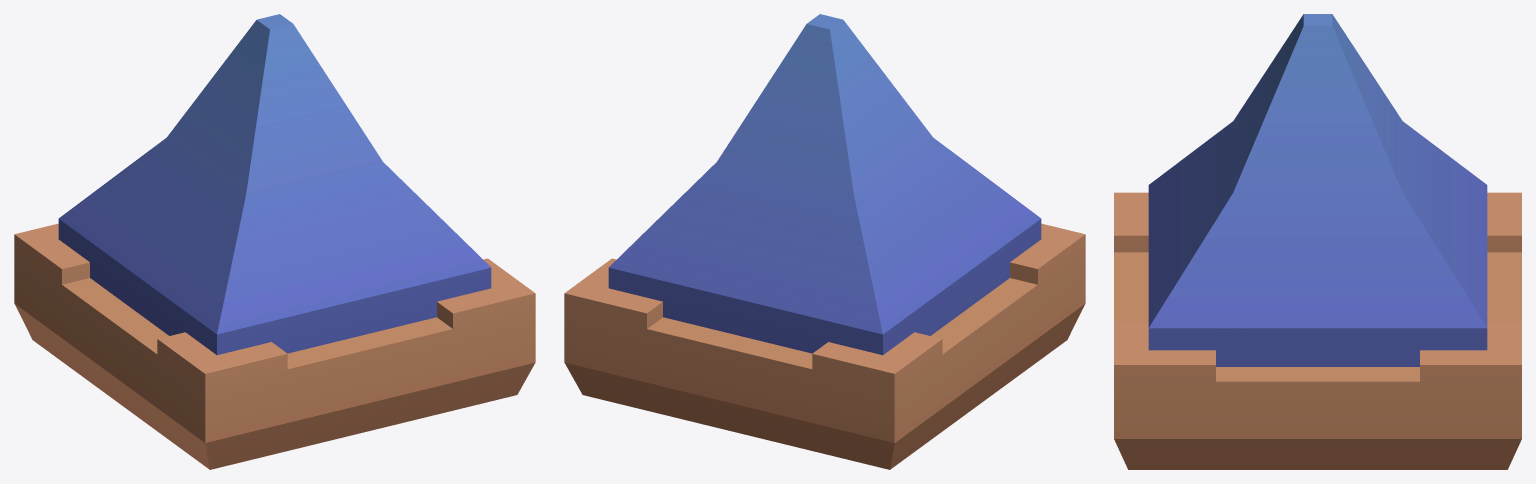
Rendered from kenney-castle-tower-square-top-roof.glb.
The picture shows the model from 3 angles, left to right: view 1: azimuth 30°, elevation 25°; view 2: azimuth 150°, elevation 25°; view 3: azimuth 270°, elevation 25°; orthographic projection. The views are drawn at different scales.
Visible parts, largest first — view 1: tower-square-top-roof; view 2: tower-square-top-roof; view 3: tower-square-top-roof.
Boxes of the visible parts, bbox=[...] form: tower-square-top-roof: bbox=[14, 14, 535, 469]; tower-square-top-roof: bbox=[564, 14, 1085, 469]; tower-square-top-roof: bbox=[1114, 14, 1521, 469].
Size of the model in its own units: 1 by 1 by 1.
1 material, 1 textured.
